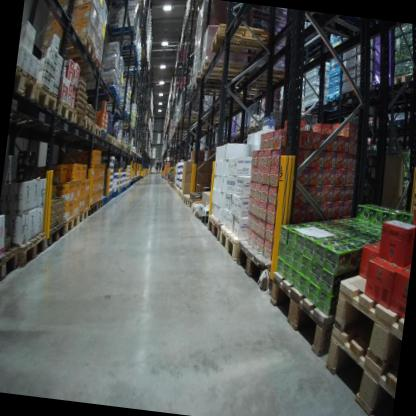pallet: (260, 255, 375, 365), (325, 259, 410, 390), (317, 319, 402, 416), (232, 234, 285, 295), (208, 20, 282, 63), (34, 27, 95, 70), (189, 67, 245, 103), (196, 55, 248, 88), (33, 73, 65, 123), (12, 228, 45, 271), (0, 244, 21, 303), (252, 58, 296, 86), (80, 77, 121, 104), (13, 64, 39, 103), (388, 67, 416, 102), (217, 225, 243, 261), (78, 56, 105, 90), (44, 220, 68, 255), (351, 79, 376, 106), (69, 201, 90, 233), (336, 80, 357, 111), (207, 211, 224, 246), (56, 96, 75, 126), (72, 105, 93, 132), (62, 210, 79, 238), (180, 191, 207, 208), (83, 200, 99, 226), (83, 111, 98, 135), (188, 198, 206, 213), (89, 124, 103, 143), (110, 109, 130, 122), (247, 118, 262, 132), (98, 190, 107, 213), (109, 131, 119, 149), (99, 126, 108, 144), (104, 130, 111, 146), (95, 197, 103, 210)
